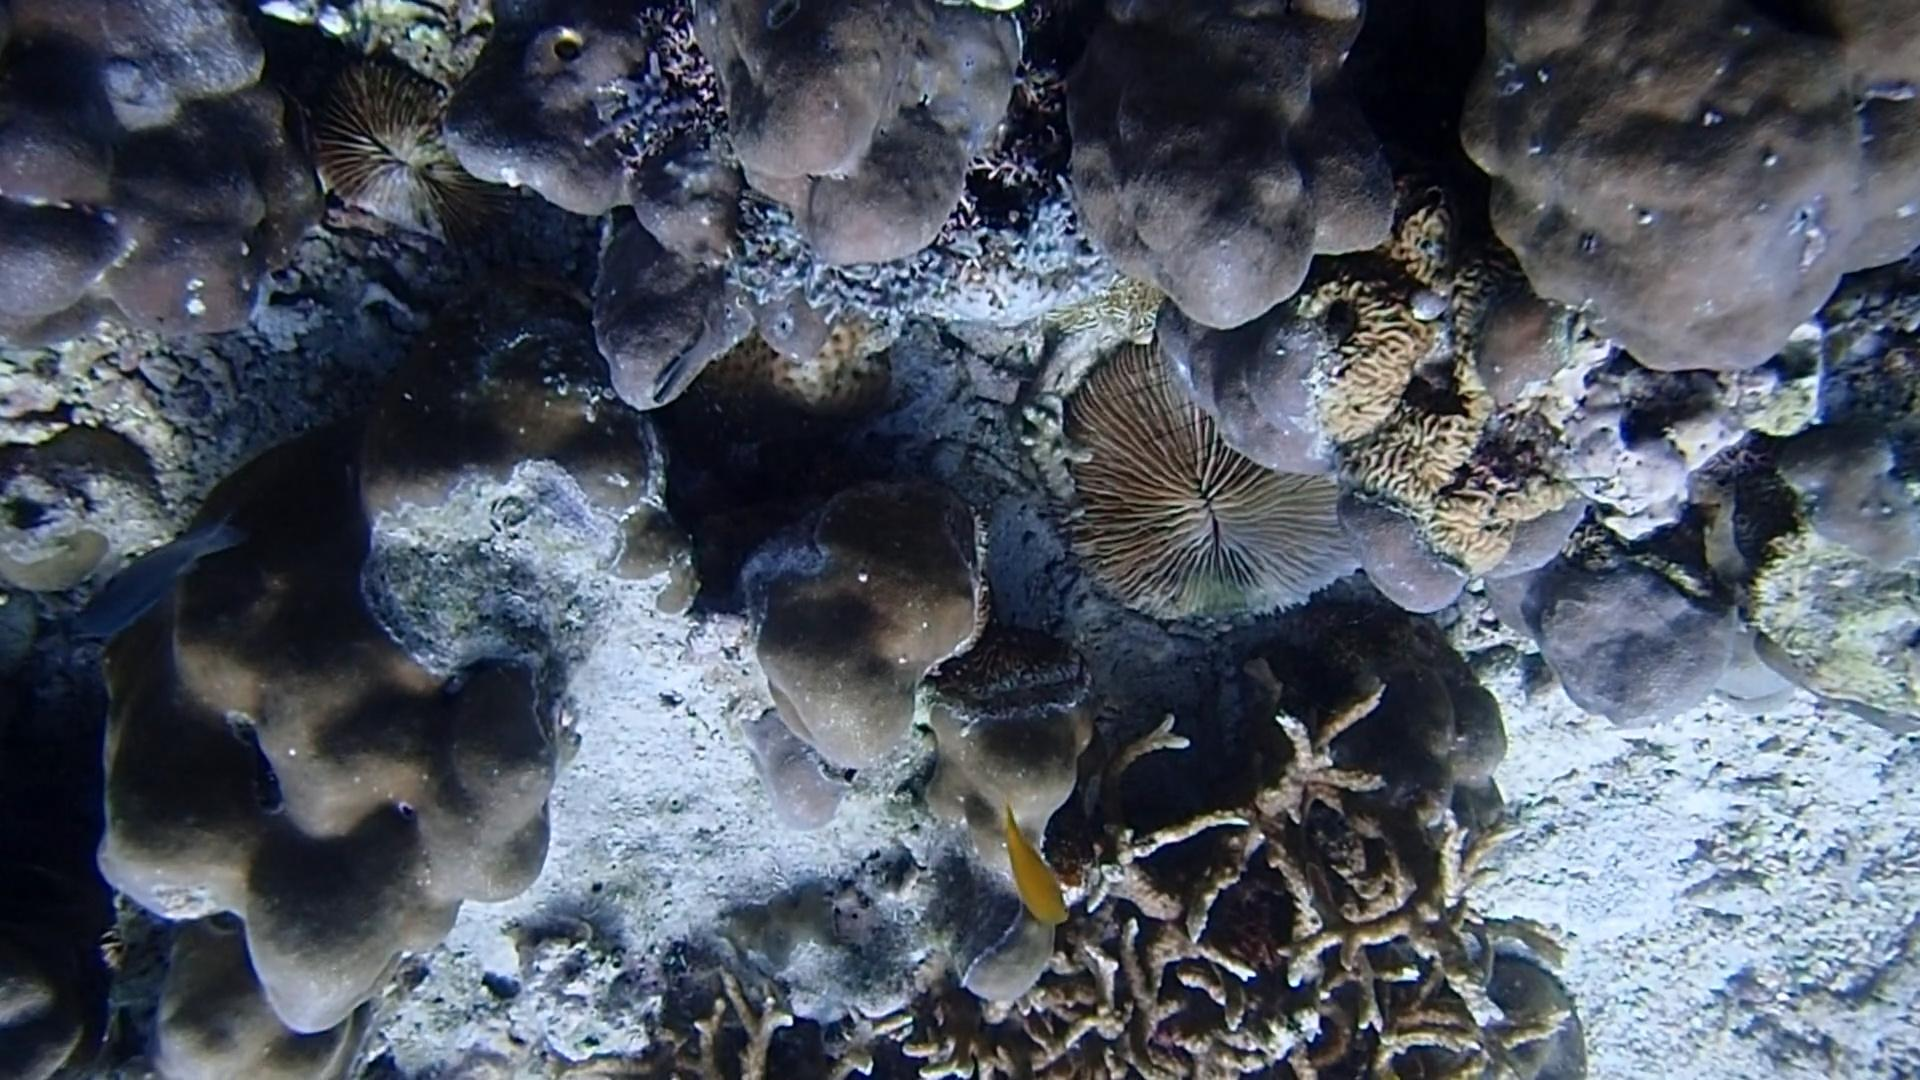Blue Fish Two: (55, 504, 256, 655)
Yellow Fish: (990, 800, 1080, 935)
